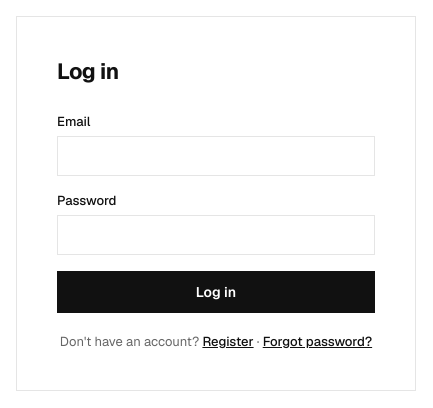
Test: LoginPage › disables the submit button while logging in
Type "user@example.com" into the field labelled "Email" at (216, 156), box [57,136,375,176]
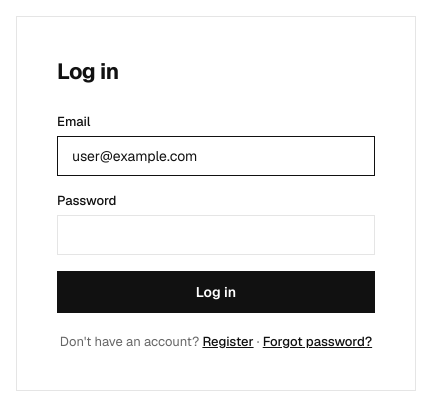
Type "password123" into the password field labelled "Password" at (216, 234), box [57,214,375,254]
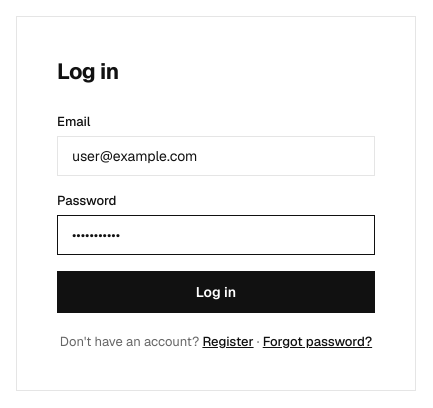
Click the button "Log in" at (216, 292), box [57,270,375,312]
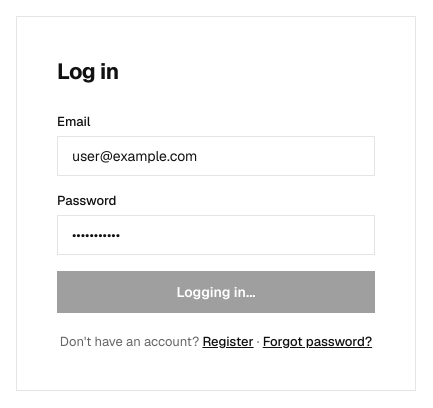
Expected: the button "Logging in..." is disabled, [57,270,375,312]
